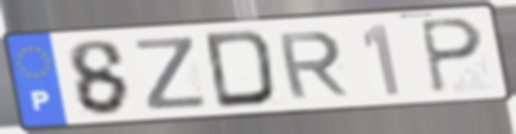1: (360, 21, 402, 98)
8: (64, 38, 133, 118)
D: (201, 27, 279, 111)
P: (415, 16, 487, 96)
R: (274, 28, 352, 101)
Z: (131, 34, 210, 113)
